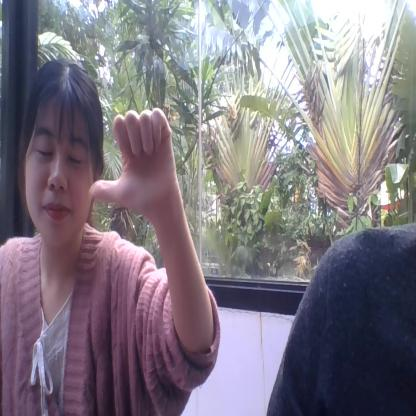right: (88, 110, 177, 224)
